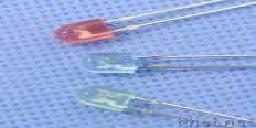LED: (48, 14, 232, 41), (76, 85, 175, 126), (84, 51, 256, 73)
